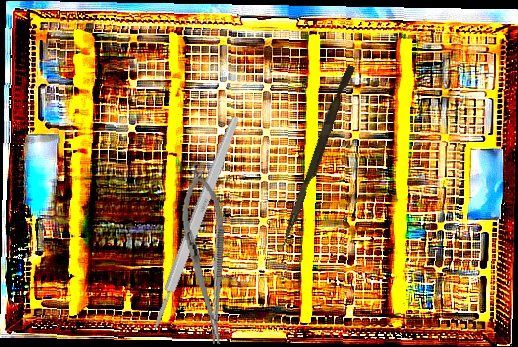Needle Holder: (176, 169, 237, 347)
Pusher: (279, 63, 356, 250)
Scalpel Handle: (148, 114, 243, 331)
